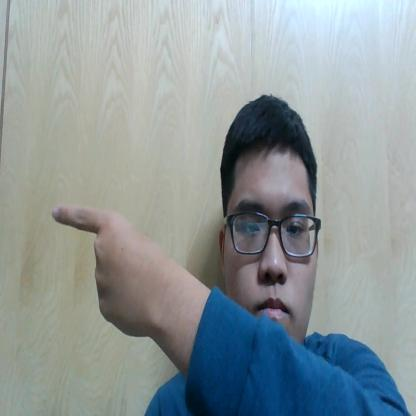right: (47, 188, 180, 360)
